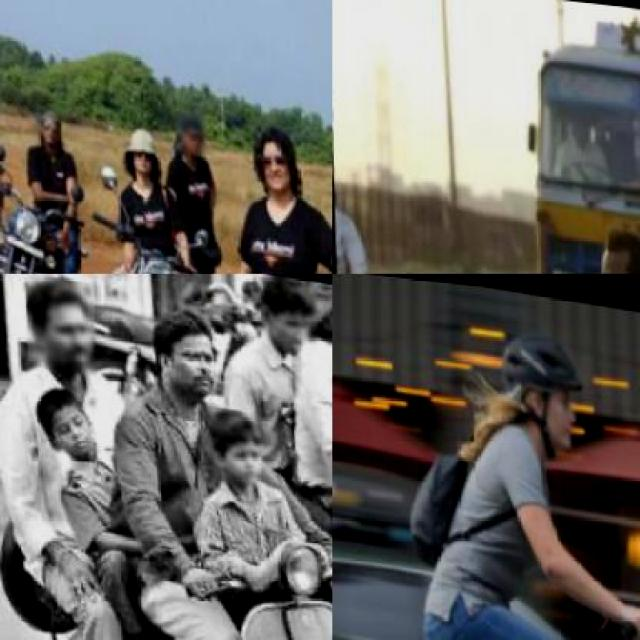With Helmet: (492, 316, 583, 450)
Without Helmet: (18, 274, 100, 375), (144, 309, 224, 402), (253, 274, 324, 351), (200, 400, 263, 486), (244, 113, 302, 196), (588, 208, 638, 272), (117, 118, 157, 174), (171, 106, 206, 154), (27, 102, 62, 147)
